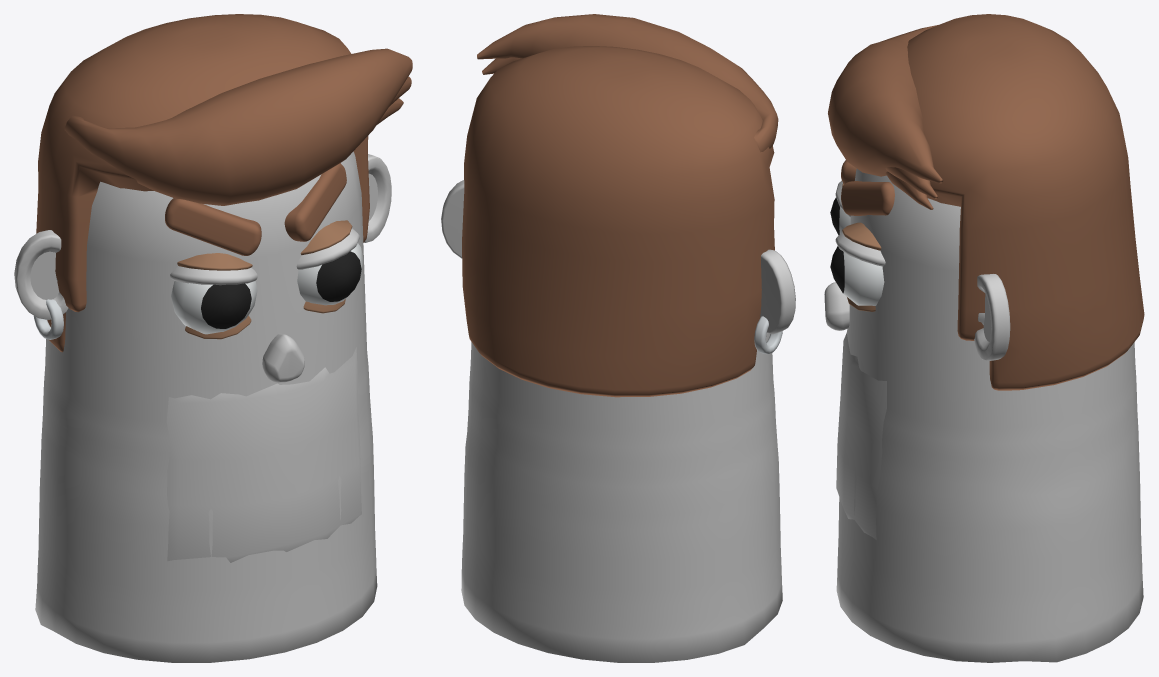
File: head 1.fbx
The picture shows the model from 3 angles, left to right: view 1: azimuth 30°, elevation 25°; view 2: azimuth 150°, elevation 25°; view 3: azimuth 270°, elevation 25°; orthographic projection. The views are drawn at different scales.
Visible parts, largest first — view 1: head1, face_1; view 2: head1; view 3: head1, face_1.
Part boxes in pixels (left/top/right/bottom): head1: left=14, top=14, right=412, bottom=662; face_1: left=166, top=347, right=361, bottom=562; head1: left=441, top=14, right=795, bottom=662; head1: left=824, top=14, right=1144, bottom=662; face_1: left=836, top=332, right=886, bottom=539.
Bounding box in the file's own units: 0.5116 × 0.7368 × 0.3886.
